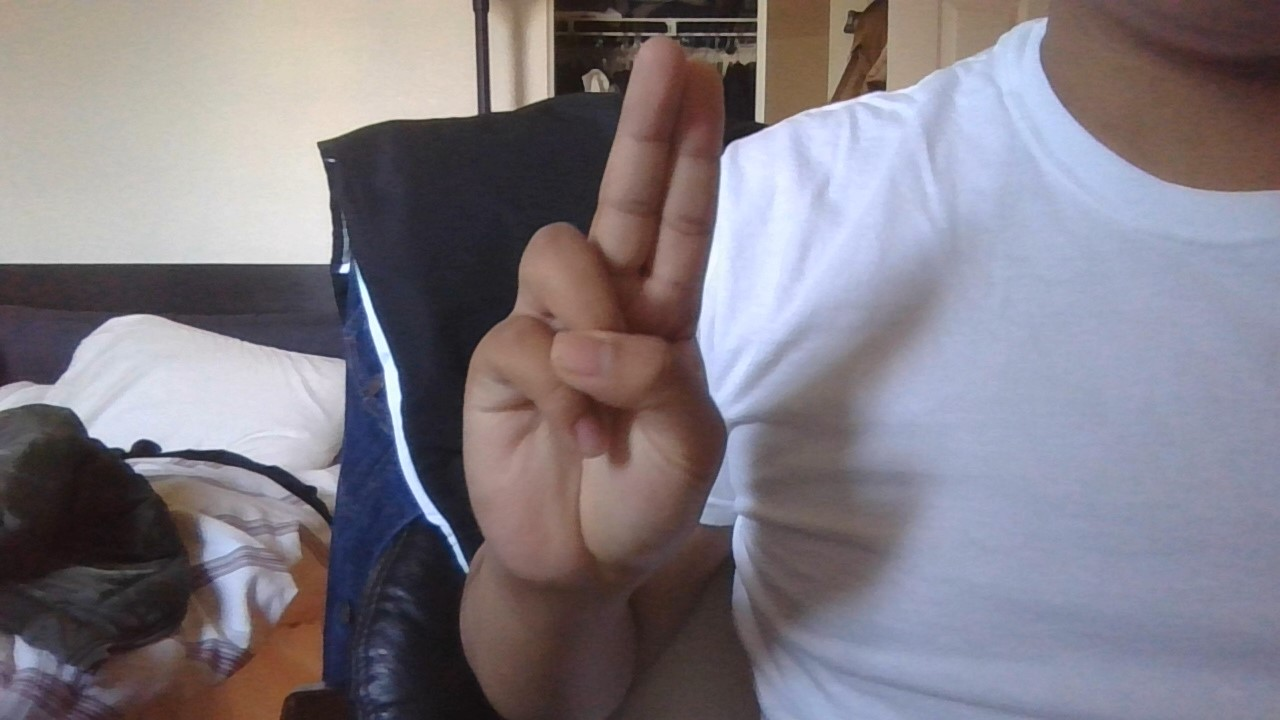u: (422, 26, 772, 622)
